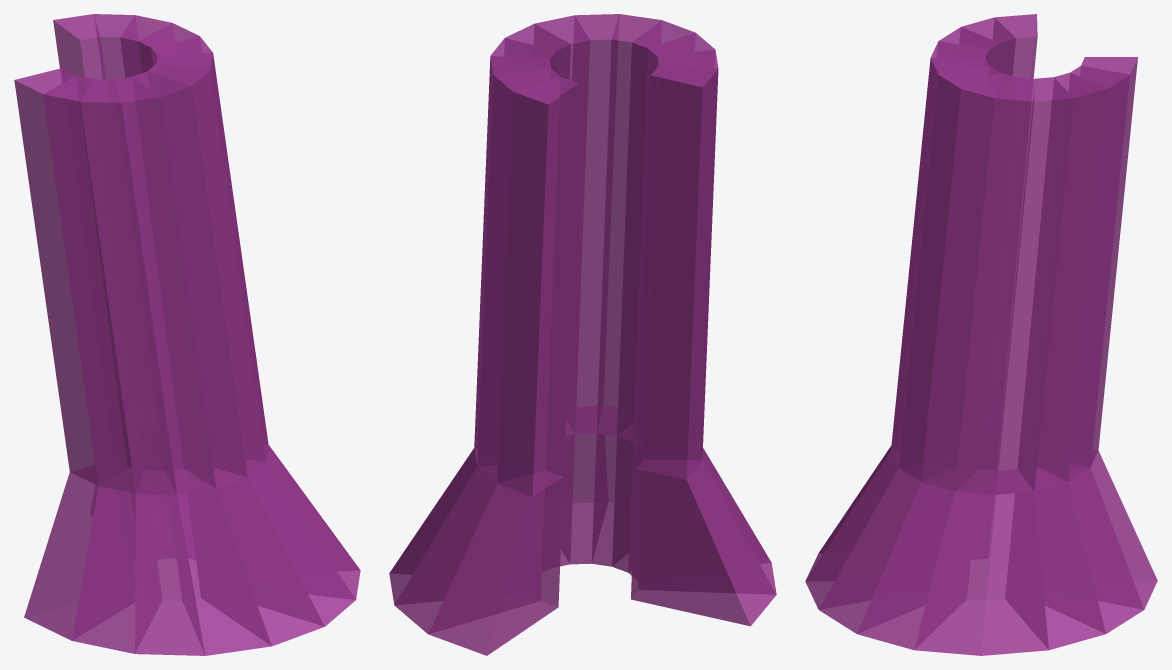
Rendered from SM_Bld_Wall_Fort_L_Corner_Tower_02_Collision.fbx.
3 renders of one model, left to right at view 1: azimuth 30°, elevation 25°; view 2: azimuth 150°, elevation 25°; view 3: azimuth 270°, elevation 25°, orthographic. The views are drawn at different scales.
Visible parts, largest first — view 1: SM_Bld_Wall_Fort_L_Corner_Tower_02_Collision; view 2: SM_Bld_Wall_Fort_L_Corner_Tower_02_Collision; view 3: SM_Bld_Wall_Fort_L_Corner_Tower_02_Collision.
Boxes of the visible parts, <box> form: SM_Bld_Wall_Fort_L_Corner_Tower_02_Collision: <box>14,14,360,655</box>; SM_Bld_Wall_Fort_L_Corner_Tower_02_Collision: <box>389,14,776,655</box>; SM_Bld_Wall_Fort_L_Corner_Tower_02_Collision: <box>805,14,1157,655</box>.
Bounding box in the file's own units: 1536 × 2410 × 1536.
